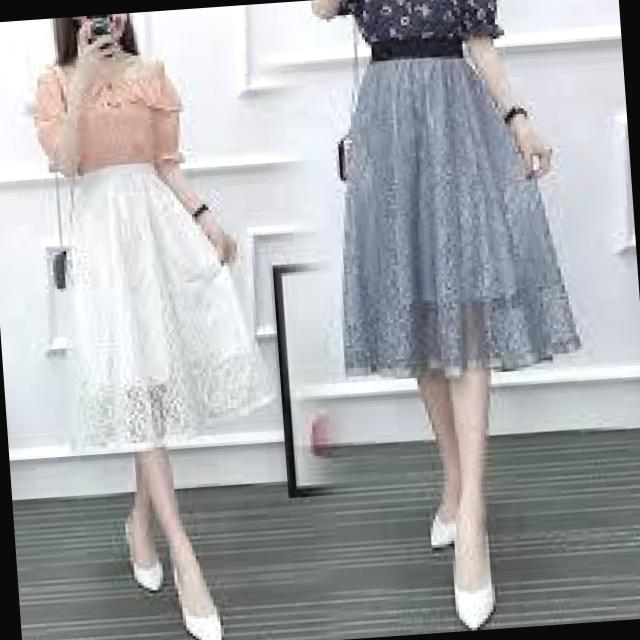skirt: (329, 31, 583, 384), (49, 154, 278, 460)
